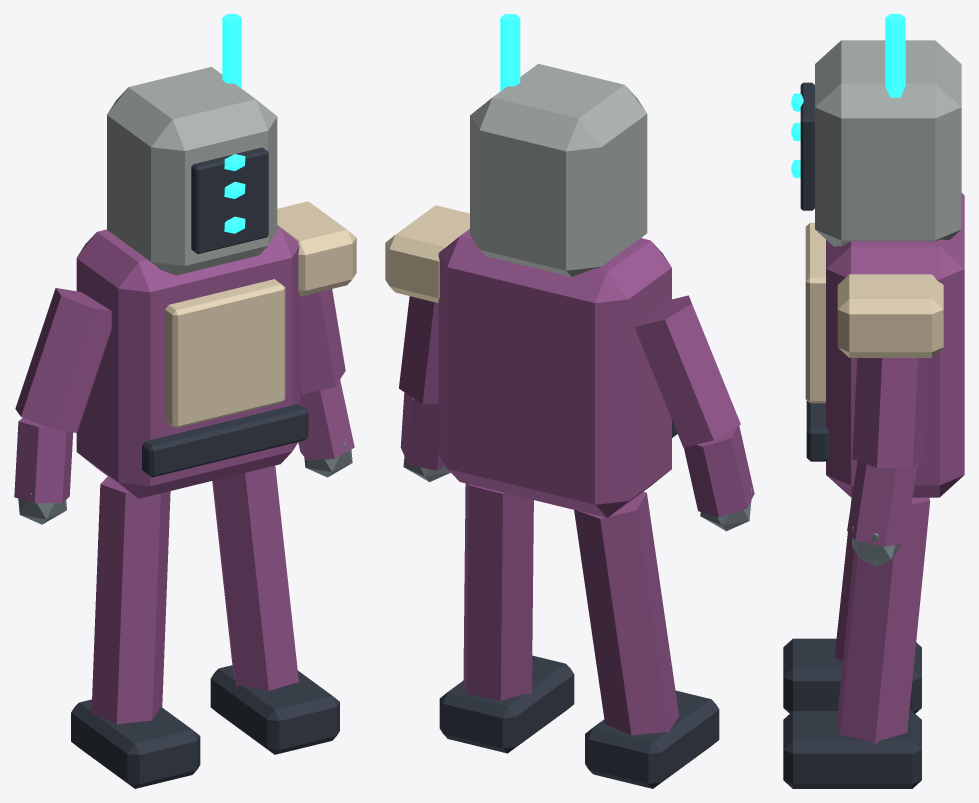
Rendered from npcs_012_seed11.glb.
3 views of the same model, side by side, from view 1: azimuth 30°, elevation 25°; view 2: azimuth 150°, elevation 25°; view 3: azimuth 270°, elevation 25° (orthographic). The views are drawn at different scales.
Parts seen in each view (by area): view 1: npcs_012_seed11; view 2: npcs_012_seed11; view 3: npcs_012_seed11.
Part boxes in pixels (box(x1,y1,x2,y2)): npcs_012_seed11: box(14, 14, 356, 788); npcs_012_seed11: box(385, 14, 754, 788); npcs_012_seed11: box(783, 14, 964, 788).
Bounding box in the file's own units: 0.8609 × 1.73 × 0.3818.
